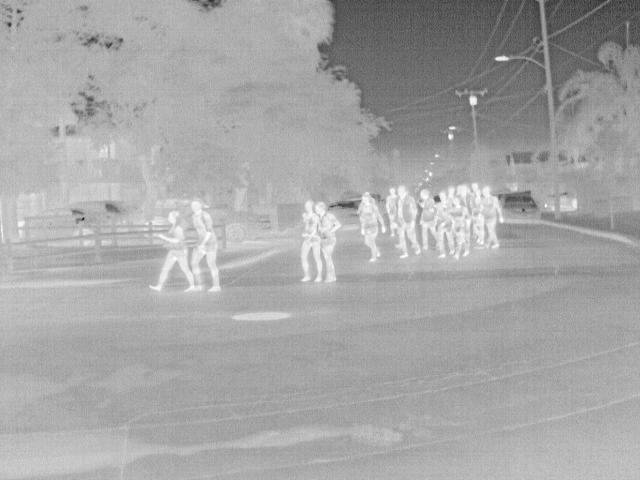car: (204, 204, 274, 245), (500, 192, 545, 226), (19, 208, 102, 224), (328, 198, 362, 230), (71, 197, 131, 215)
person: (147, 212, 197, 291), (184, 198, 223, 292), (355, 192, 390, 264), (314, 200, 343, 282), (392, 182, 423, 258), (300, 198, 323, 283), (445, 196, 472, 258), (479, 186, 506, 246), (419, 184, 437, 248), (469, 182, 485, 247), (435, 191, 448, 259), (383, 184, 399, 232)
